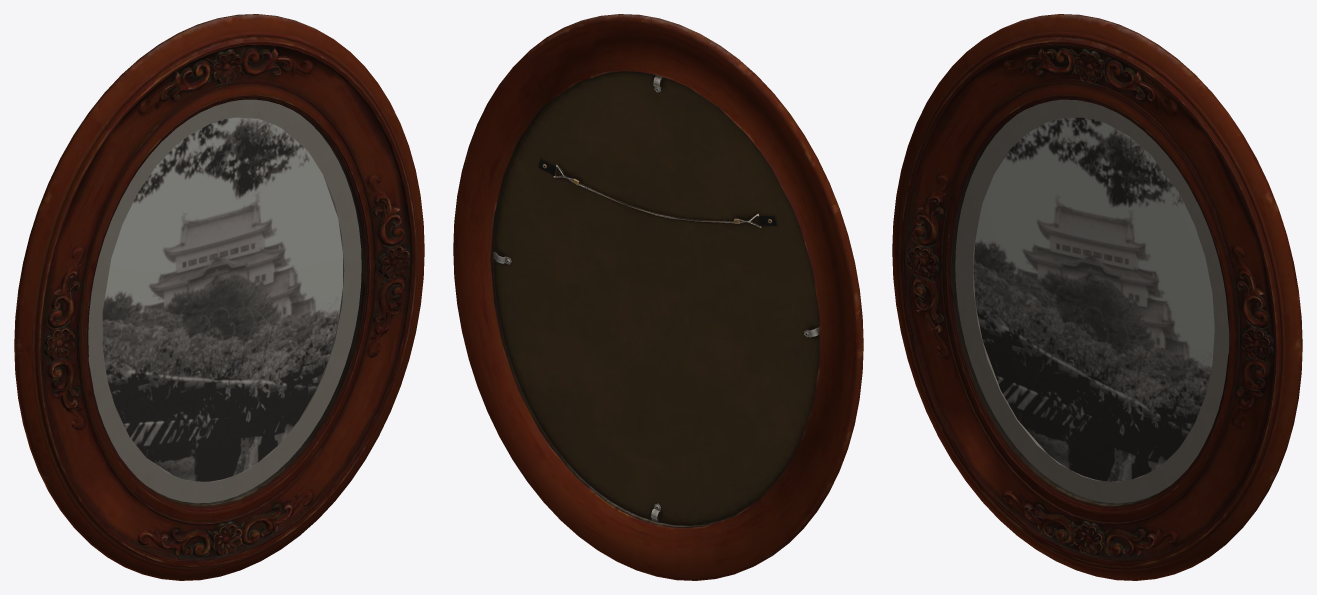
The model's file is hanging_picture_frame_03.glb.
The picture shows the model from 3 angles, left to right: view 1: azimuth 30°, elevation 25°; view 2: azimuth 150°, elevation 25°; view 3: azimuth 330°, elevation 25°; orthographic projection.
Parts seen in each view (by area): view 1: hanging_picture_frame_03, hanging_picture_frame_03_glass; view 2: hanging_picture_frame_03; view 3: hanging_picture_frame_03, hanging_picture_frame_03_glass.
Part boxes in pixels (x1,y1,x2,y2): hanging_picture_frame_03: (14,14,424,580); hanging_picture_frame_03_glass: (88,100,364,504); hanging_picture_frame_03: (453,14,863,580); hanging_picture_frame_03: (892,14,1302,580); hanging_picture_frame_03_glass: (953,100,1228,504).
Size of the model in its own units: 0.3847 by 0.502 by 0.0318.
3 materials, 2 textured.
